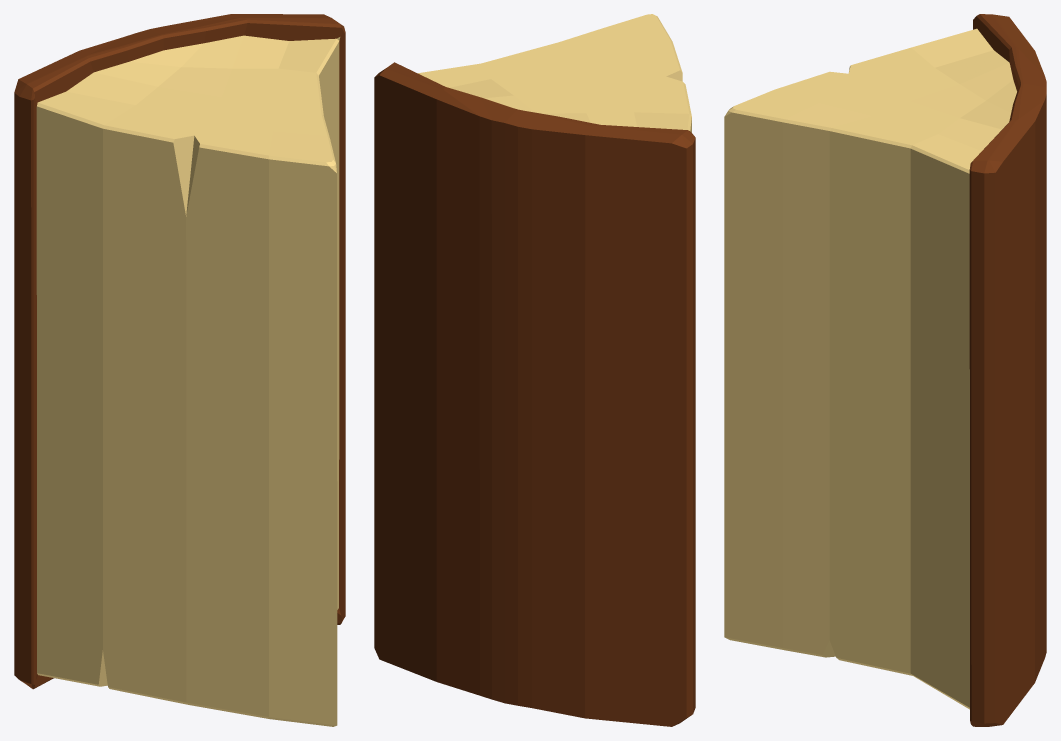
The model's file is WoodLog.fbx.
3 views of the same model, side by side, from view 1: azimuth 30°, elevation 25°; view 2: azimuth 150°, elevation 25°; view 3: azimuth 270°, elevation 25° (orthographic). The views are drawn at different scales.
Visible parts, largest first — view 1: BasicTreeLog; view 2: BasicTreeLog; view 3: BasicTreeLog.
Boxes of the visible parts, x1,y1,x2,y2 form: BasicTreeLog: (14,14,345,726); BasicTreeLog: (374,14,695,726); BasicTreeLog: (724,14,1046,726).
Size of the model in its own units: 73.49 by 132 by 67.44.
